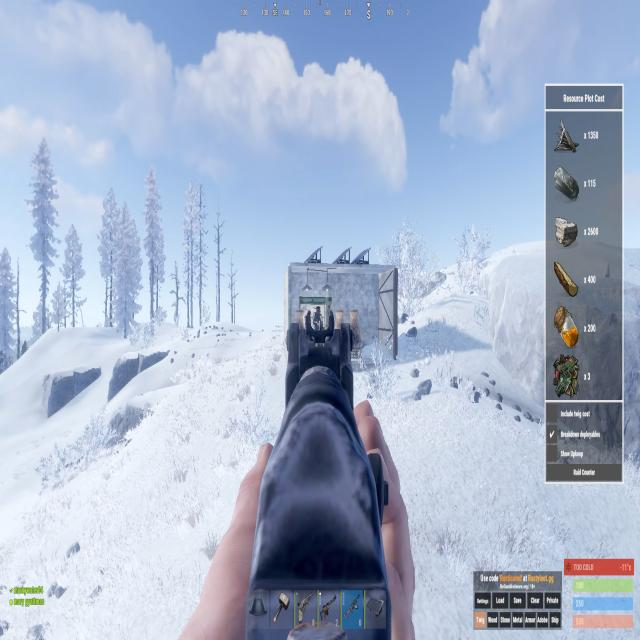Player: (312, 306, 324, 334)
